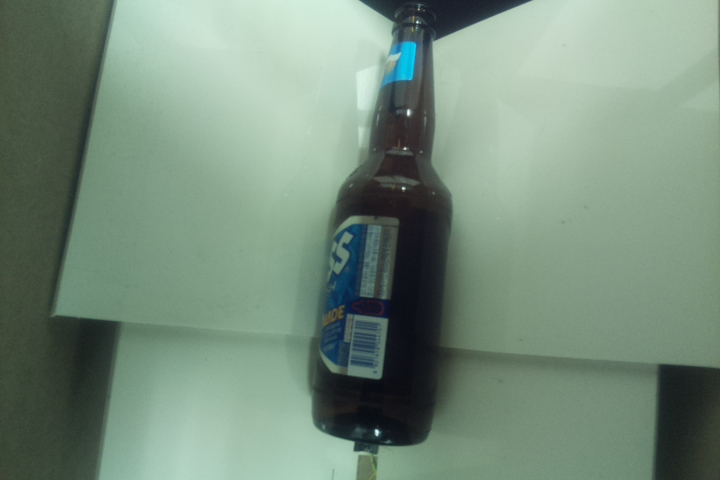makju: (308, 1, 454, 448)
